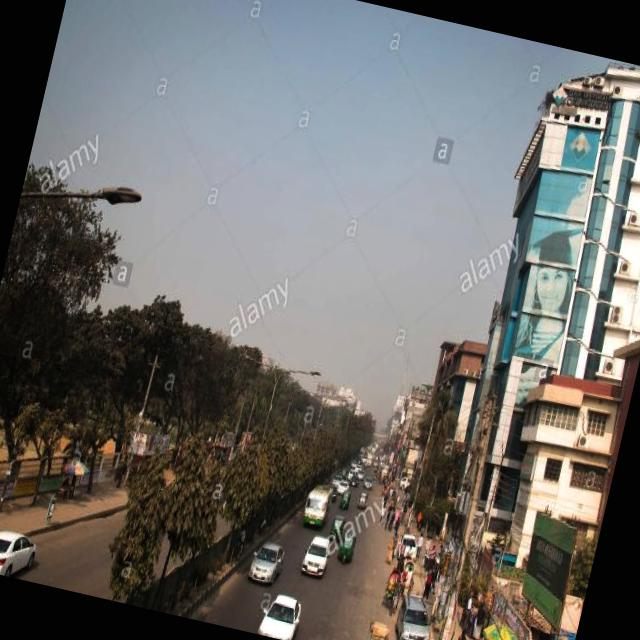bus: (301, 476, 335, 524), (364, 448, 372, 463), (379, 461, 388, 474)
car: (389, 587, 439, 640), (255, 585, 304, 638), (0, 518, 39, 576), (244, 532, 286, 583), (298, 527, 332, 574), (395, 527, 421, 559), (327, 480, 338, 496), (336, 477, 348, 491), (331, 469, 342, 482), (362, 471, 372, 484), (348, 471, 358, 482), (346, 466, 355, 476), (356, 464, 364, 474), (354, 460, 360, 468), (372, 458, 378, 462)
motorcycle: (379, 561, 406, 612), (396, 556, 418, 594), (335, 528, 357, 562), (328, 508, 345, 536), (338, 487, 352, 504), (416, 632, 444, 640), (356, 488, 369, 505), (400, 549, 412, 561), (381, 483, 389, 494), (339, 464, 347, 474), (348, 455, 356, 464), (384, 476, 392, 482)
truck: (396, 470, 412, 486)
